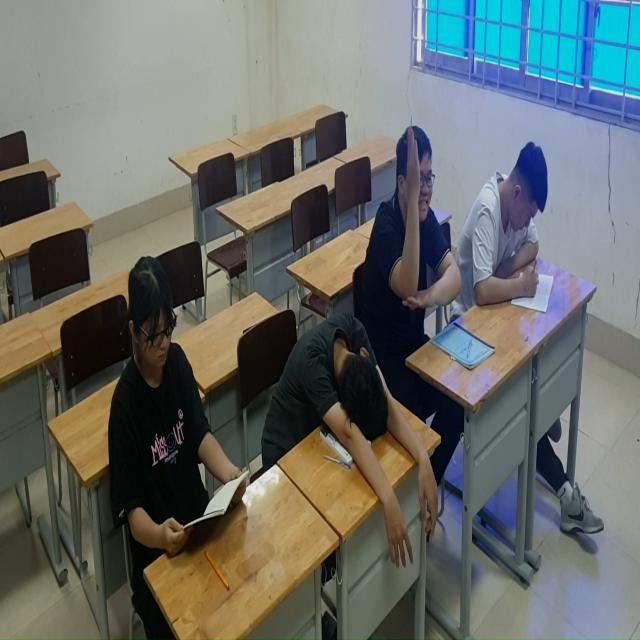raise_hand: (380, 118, 467, 330)
read: (105, 235, 253, 578), (467, 137, 557, 325)
sleep: (261, 306, 411, 513)
